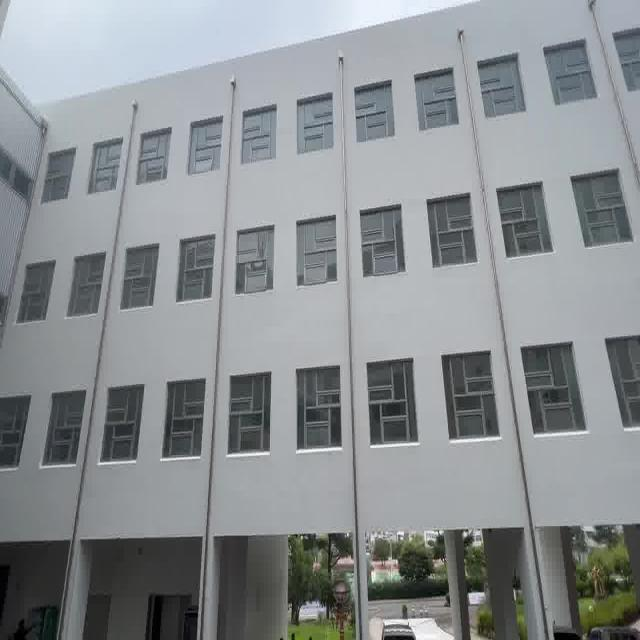building: (33, 56, 640, 499)
